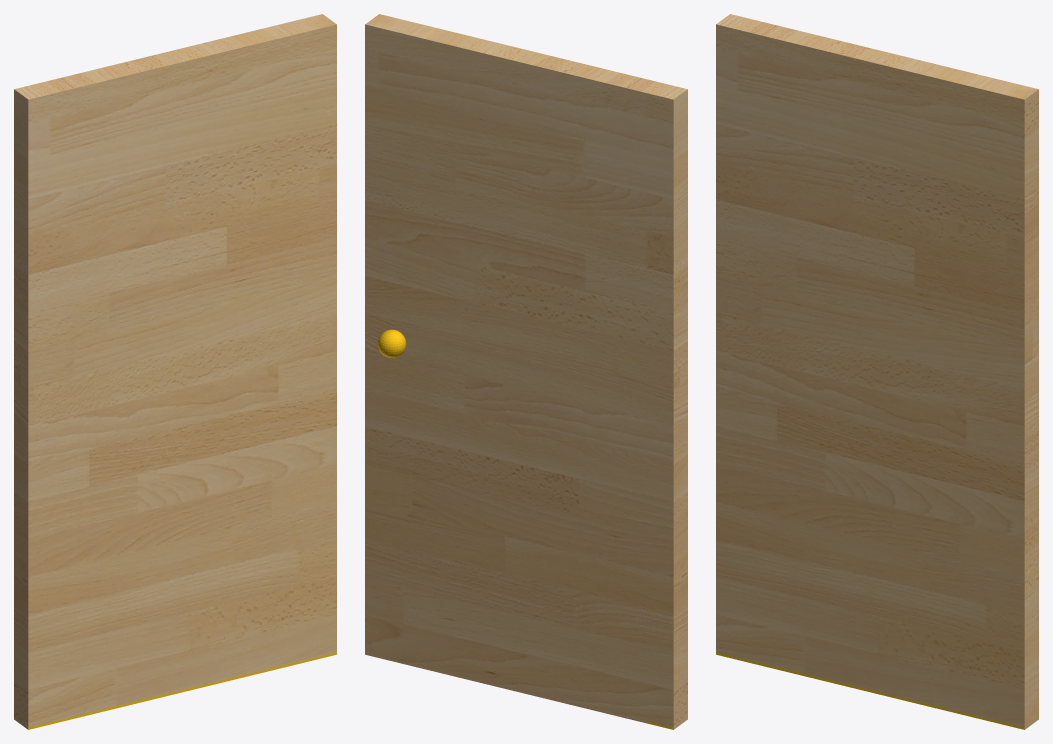
File: Door3.obj
3 views of the same model, side by side, from view 1: azimuth 30°, elevation 25°; view 2: azimuth 150°, elevation 25°; view 3: azimuth 330°, elevation 25° (orthographic).
Visible parts, largest first — view 1: Door_Cube.005; view 2: Door_Cube.005; view 3: Door_Cube.005.
Part boxes in pixels (x1=…): Door_Cube.005: x1=14, y1=14, x2=336, y2=729; Door_Cube.005: x1=365, y1=14, x2=687, y2=729; Door_Cube.005: x1=716, y1=14, x2=1038, y2=729.
Size of the model in its own units: 1 by 1.95 by 0.1517.
